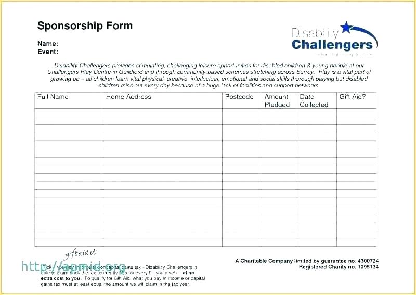textbox: (100, 177, 224, 192), (99, 146, 225, 160), (100, 162, 225, 176), (101, 187, 225, 201), (101, 122, 224, 136), (100, 115, 225, 128), (100, 138, 225, 151), (100, 154, 225, 167), (100, 227, 225, 240), (100, 237, 225, 250), (101, 106, 225, 119), (101, 212, 225, 225), (100, 203, 223, 216), (100, 172, 225, 184), (100, 220, 225, 232), (101, 195, 224, 207), (100, 131, 225, 142), (31, 122, 106, 136), (33, 162, 106, 176), (32, 211, 105, 225), (32, 106, 106, 119), (33, 147, 106, 160), (32, 154, 105, 167), (32, 220, 105, 233), (33, 114, 105, 127), (32, 139, 107, 151), (33, 131, 106, 143), (32, 171, 105, 183), (33, 188, 106, 200), (33, 179, 105, 191), (32, 204, 106, 215), (32, 196, 105, 207), (32, 229, 106, 239), (31, 237, 105, 247), (294, 227, 339, 242), (219, 202, 264, 217), (295, 235, 339, 250), (335, 235, 378, 250), (334, 162, 380, 176), (219, 235, 264, 249), (334, 227, 379, 241), (219, 105, 264, 119), (335, 203, 379, 217), (259, 227, 300, 242), (218, 179, 264, 192), (218, 187, 264, 200), (220, 114, 265, 127), (219, 155, 264, 168), (219, 163, 264, 176), (295, 114, 340, 127), (294, 138, 339, 151), (295, 147, 340, 160), (295, 203, 340, 216), (334, 138, 379, 151), (219, 138, 263, 151), (219, 147, 263, 160), (295, 106, 339, 119), (295, 122, 339, 135), (295, 163, 339, 176), (295, 179, 339, 192), (334, 187, 378, 200), (335, 219, 379, 232), (220, 228, 263, 241), (220, 211, 263, 224), (334, 147, 380, 159), (334, 155, 380, 167), (333, 171, 379, 183), (259, 235, 298, 249), (219, 171, 264, 183), (334, 212, 379, 224), (259, 147, 300, 160), (259, 179, 300, 192), (221, 123, 265, 135), (219, 194, 263, 206), (295, 155, 339, 167), (295, 172, 339, 184), (295, 187, 339, 199), (295, 212, 339, 224), (295, 220, 339, 232), (335, 106, 379, 118), (334, 114, 378, 126), (335, 123, 379, 135), (334, 179, 378, 191), (259, 106, 299, 119), (220, 131, 263, 143), (260, 154, 299, 167), (259, 123, 301, 135), (259, 220, 301, 232), (220, 220, 265, 231), (295, 131, 340, 142), (259, 131, 300, 143), (259, 163, 300, 175), (295, 196, 339, 207), (335, 131, 379, 142), (259, 195, 299, 207), (335, 196, 378, 207), (260, 188, 299, 200), (261, 114, 299, 126), (261, 204, 299, 216), (259, 139, 300, 150), (259, 172, 299, 183), (259, 212, 298, 223)
